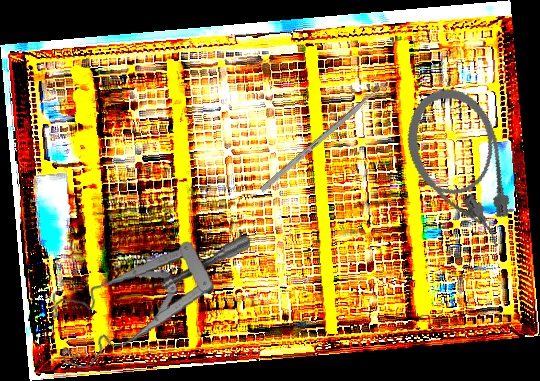Cannula: (394, 77, 527, 264)
Pusher: (259, 73, 396, 193)
Speculum: (46, 233, 260, 371)
